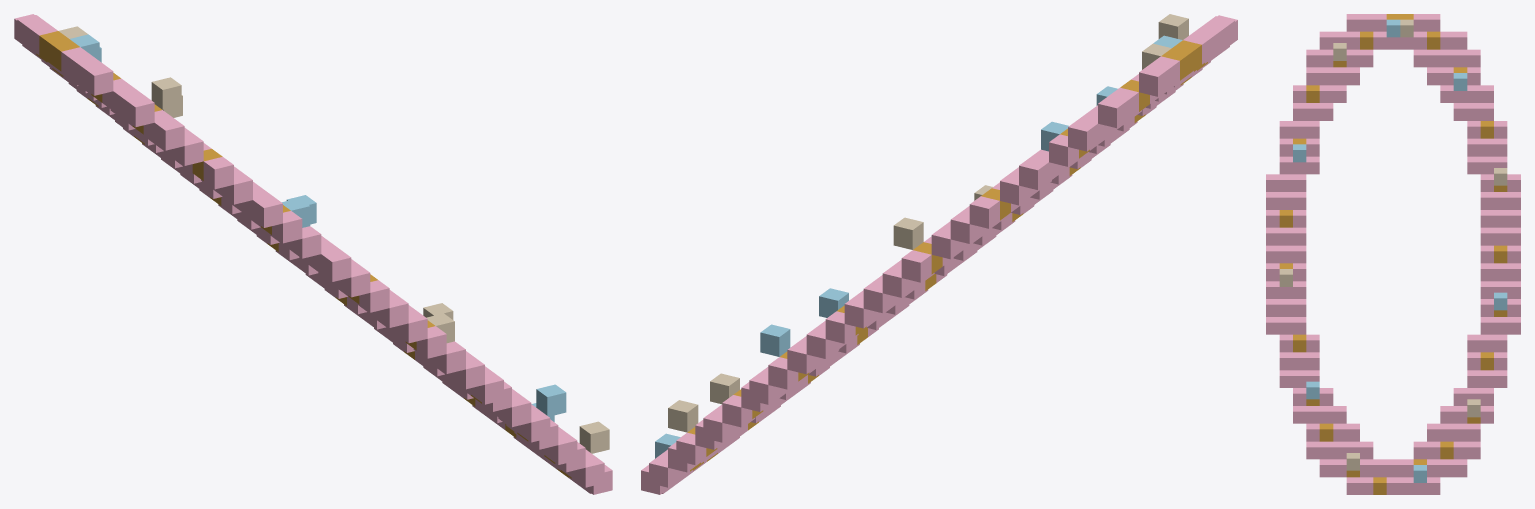
File: britney-acc4.2036dab5.glb
The picture shows the model from 3 angles, left to right: view 1: azimuth 30°, elevation 25°; view 2: azimuth 150°, elevation 25°; view 3: azimuth 270°, elevation 25°; orthographic projection. The views are drawn at different scales.
Visible parts, largest first — view 1: rosa, beige, dorado, celeste; view 2: rosa, beige, dorado, celeste; view 3: rosa, dorado, celeste, beige.
Part boxes in pixels (x1=…): rosa: x1=14, y1=14, x2=612, y2=494; beige: x1=59, y1=26, x2=609, y2=453; dorado: x1=36, y1=31, x2=571, y2=478; celeste: x1=70, y1=34, x2=566, y2=421; rosa: x1=641, y1=15, x2=1237, y2=494; beige: x1=668, y1=14, x2=1188, y2=432; dorado: x1=687, y1=40, x2=1207, y2=471; celeste: x1=655, y1=35, x2=1182, y2=458; rosa: x1=1266, y1=14, x2=1520, y2=494; dorado: x1=1279, y1=14, x2=1507, y2=494; celeste: x1=1293, y1=19, x2=1507, y2=482; beige: x1=1279, y1=19, x2=1507, y2=470.
Bounding box in the file's own units: 0.5 × 0.5 × 0.3518.
